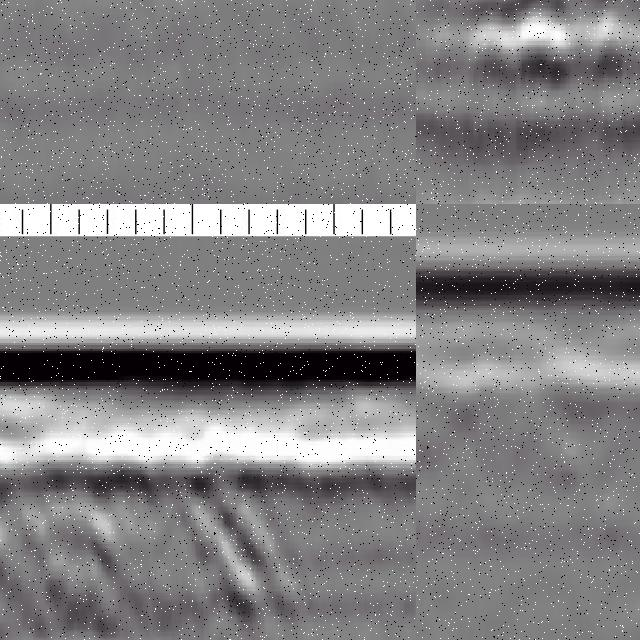crack: (417, 296, 434, 640)
loose: (1, 459, 277, 640), (423, 1, 640, 83)
